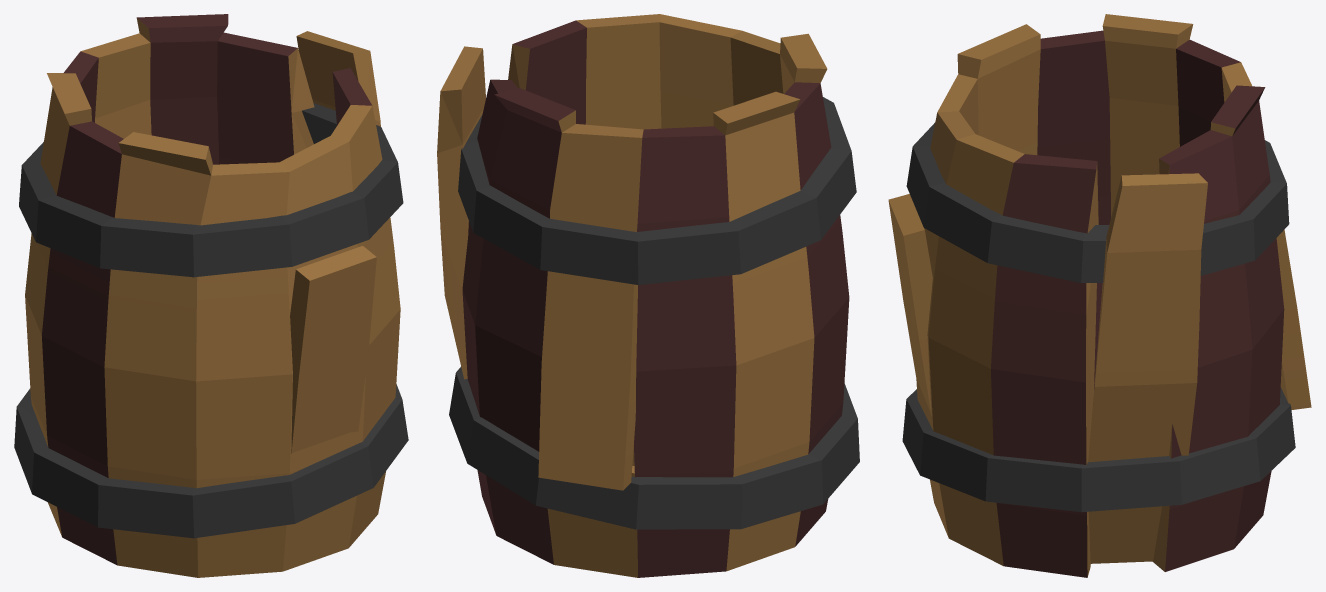
Rendered from ea_prop_container_barrel_01b_pre__1__lev1.glb.
3 views of the same model, side by side, from view 1: azimuth 30°, elevation 25°; view 2: azimuth 150°, elevation 25°; view 3: azimuth 270°, elevation 25° (orthographic). The views are drawn at different scales.
Visible parts, largest first — view 1: ea_prop_container_barrel_01b_pre__1__lev1; view 2: ea_prop_container_barrel_01b_pre__1__lev1; view 3: ea_prop_container_barrel_01b_pre__1__lev1.
Part boxes in pixels (x1=…): ea_prop_container_barrel_01b_pre__1__lev1: x1=14, y1=14, x2=408, y2=577; ea_prop_container_barrel_01b_pre__1__lev1: x1=437, y1=14, x2=859, y2=577; ea_prop_container_barrel_01b_pre__1__lev1: x1=888, y1=14, x2=1311, y2=577.
Bounding box in the file's own units: 1.29 × 1.54 × 1.38.
Materials: 1 (1 with a texture image).
